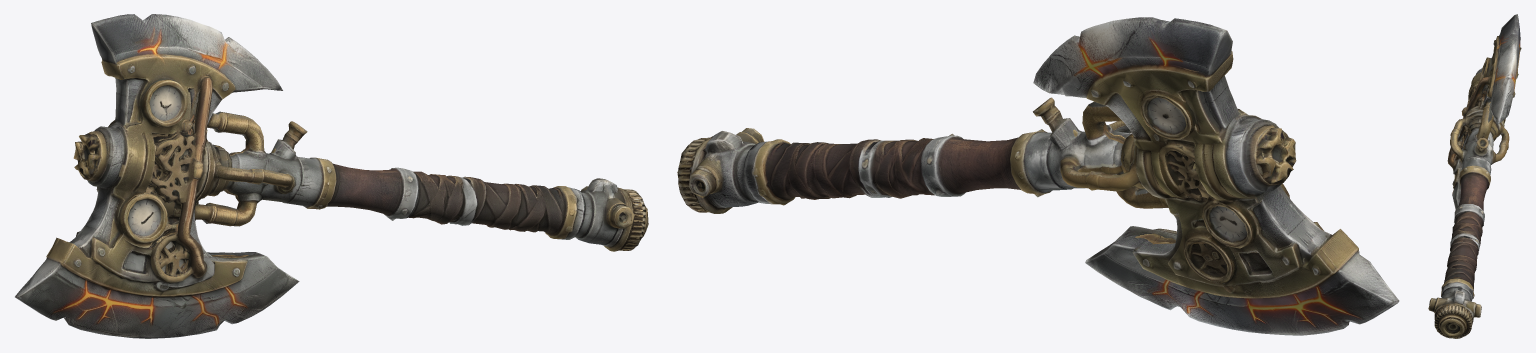
File: axel.glb
The picture shows the model from 3 angles, left to right: view 1: azimuth 30°, elevation 25°; view 2: azimuth 150°, elevation 25°; view 3: azimuth 270°, elevation 25°; orthographic projection. The views are drawn at different scales.
Visible parts, largest first — view 1: Mesh1.0; view 2: Mesh1.0; view 3: Mesh1.0.
Boxes of the visible parts, bbox=[...] form: Mesh1.0: bbox=[15, 14, 648, 338]; Mesh1.0: bbox=[677, 17, 1399, 335]; Mesh1.0: bbox=[1428, 14, 1521, 338].
Bounding box in the file's own units: 1.88 × 0.9 × 0.4118.
Materials: 1 (1 with a texture image).
